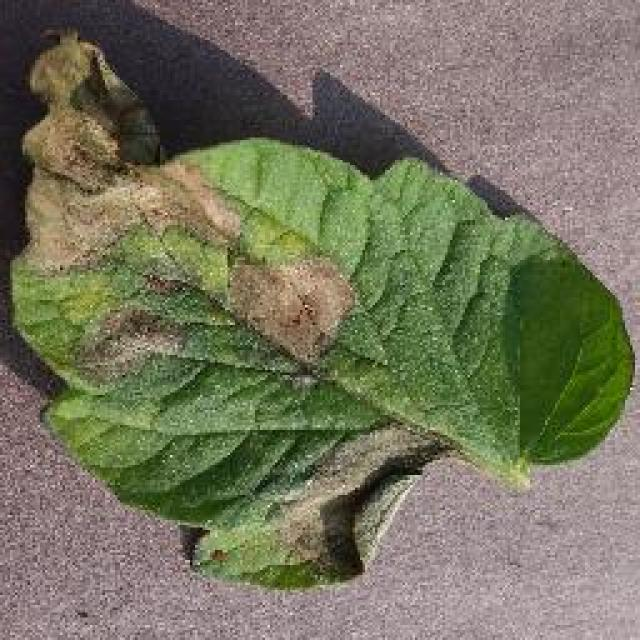Tomato_Late_Blight: (9, 31, 368, 377), (280, 408, 462, 578)
